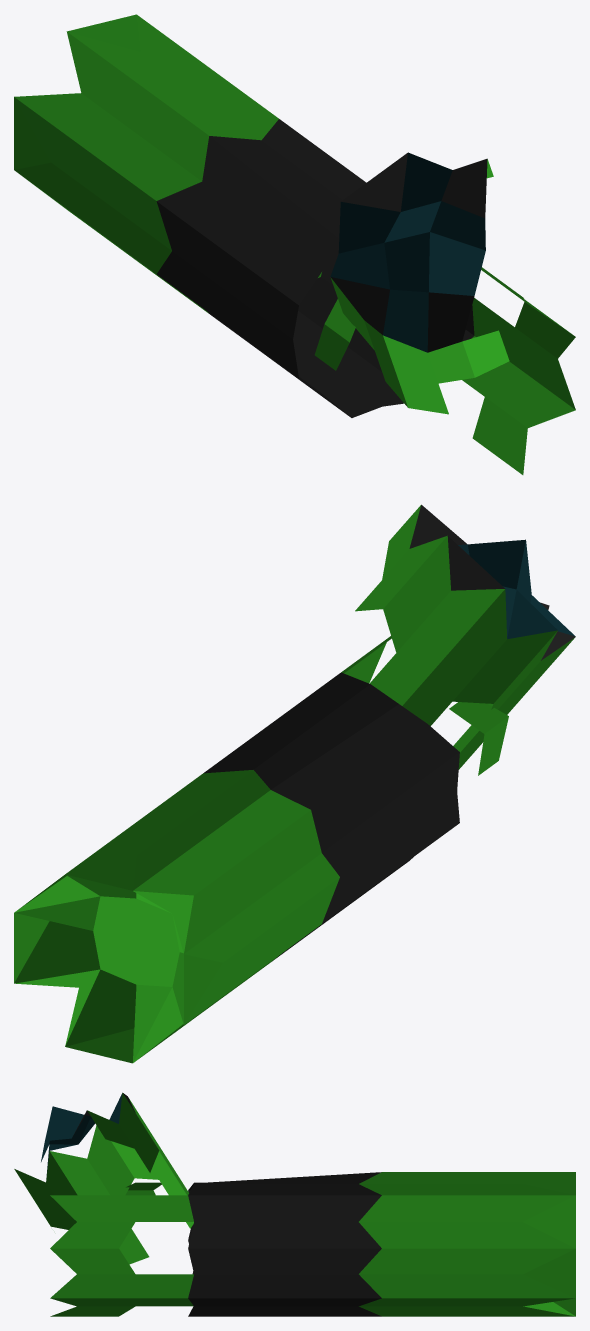
The model's file is archerytower1d.obj.
The picture shows the model from 3 angles, top to bottom: view 1: azimuth 30°, elevation 25°; view 2: azimuth 150°, elevation 25°; view 3: azimuth 270°, elevation 25°; orthographic projection. The views are drawn at different scales.
Parts seen in each view (by area): view 1: Cube, Cube.002, Cube.001; view 2: Cube, Cube.002, Cube.001; view 3: Cube, Cube.001, Cube.002.
Boxes of the visible parts, bbox=[...] form: Cube: bbox=[14, 14, 474, 417]; Cube.002: bbox=[330, 152, 509, 414]; Cube.001: bbox=[314, 267, 575, 474]; Cube: bbox=[14, 672, 459, 1063]; Cube.002: bbox=[355, 504, 575, 769]; Cube.001: bbox=[341, 636, 508, 775]; Cube: bbox=[188, 1172, 575, 1316]; Cube.001: bbox=[50, 1182, 193, 1316]; Cube.002: bbox=[14, 1092, 193, 1264].
Size of the model in its own units: 0.4435 by 0.5977 by 1.5.
